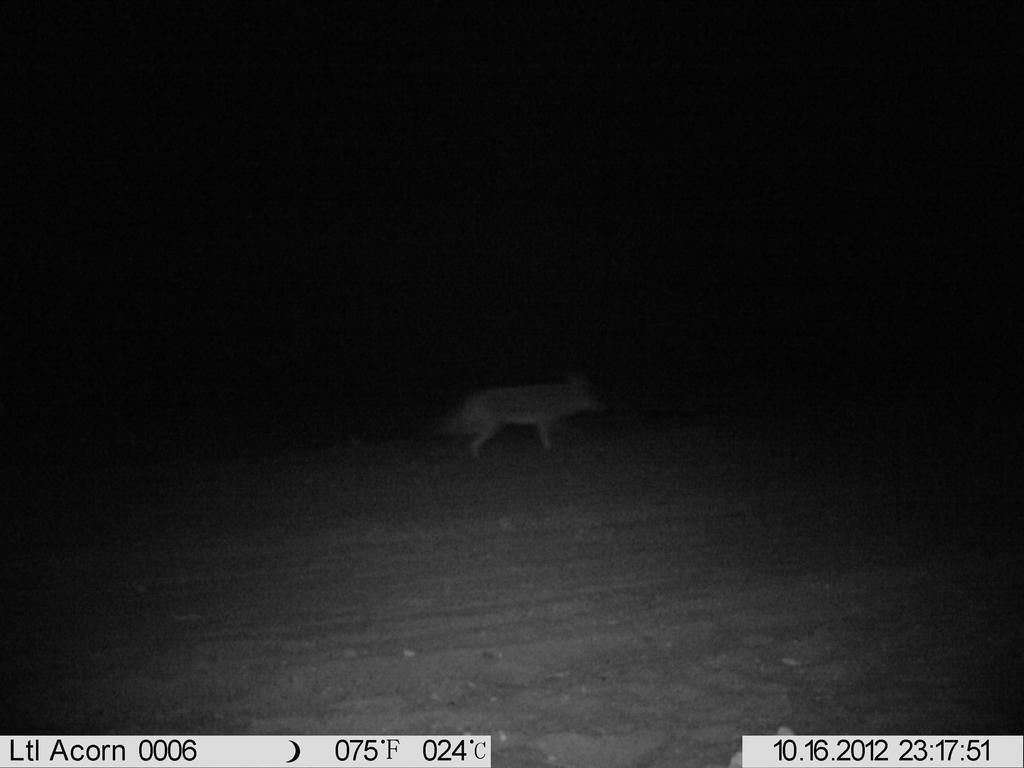coyote: (425, 364, 616, 466)
